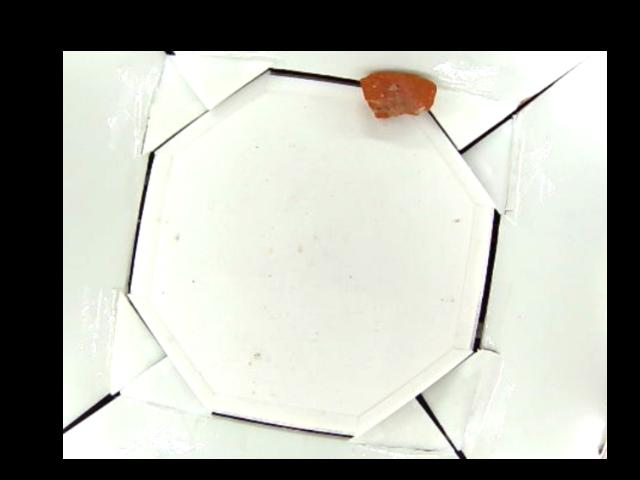Brisk: (357, 68, 436, 119)
